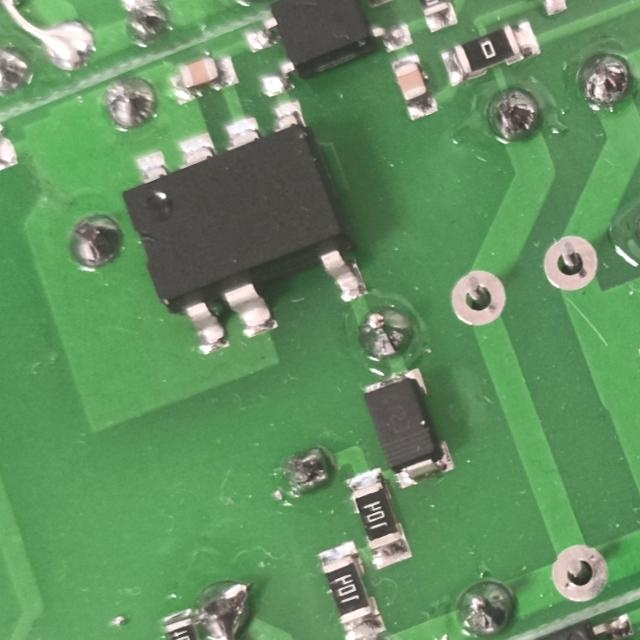chip-capacitor: (161, 45, 242, 108), (380, 47, 441, 124)
chip-resistor: (336, 462, 417, 573), (433, 12, 546, 91), (307, 534, 389, 640), (0, 129, 22, 188)
diode: (350, 358, 462, 493)
ic: (104, 92, 379, 368), (227, 0, 414, 105)
